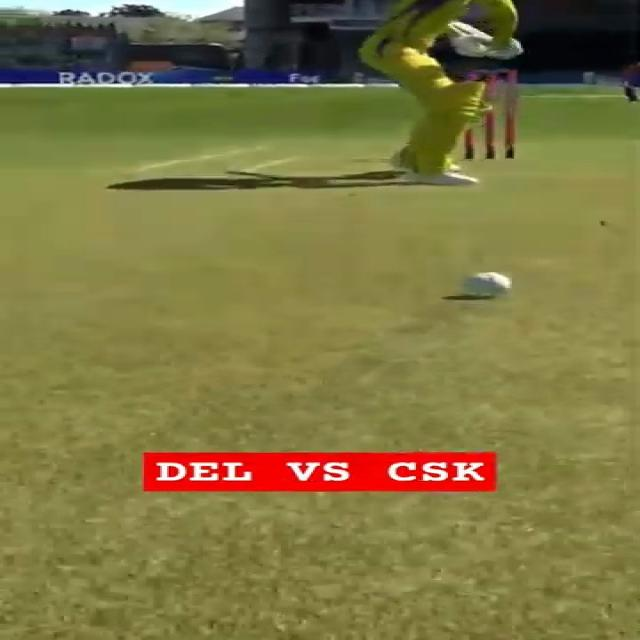ball: (462, 269, 512, 299)
